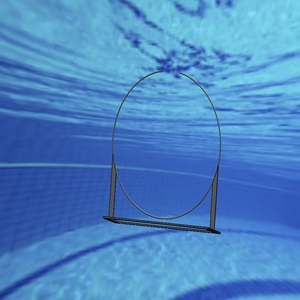circle: (102, 67, 223, 235)
